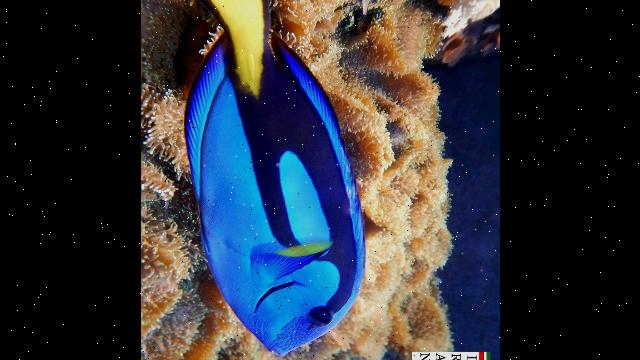Mulut: (248, 322, 300, 360)
Sirip Anal: (163, 34, 237, 210)
Sirip Dada: (240, 228, 344, 298)
Sirip Ekor: (156, 0, 284, 53)
Sirip Perut: (187, 219, 223, 286)
Sirip Punggung: (268, 27, 370, 276)
